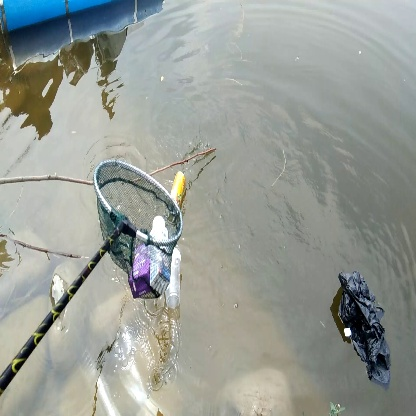plastic-bag: (334, 271, 396, 391)
